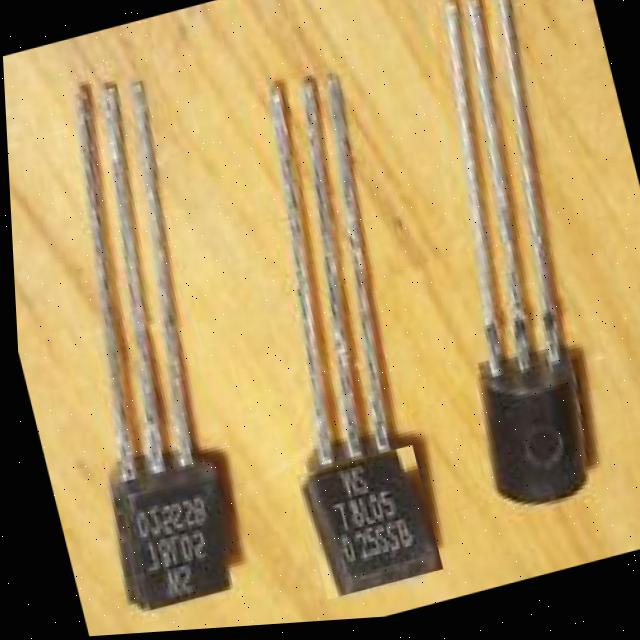Transistor: (236, 62, 460, 612), (42, 76, 245, 623), (426, 0, 607, 524)
